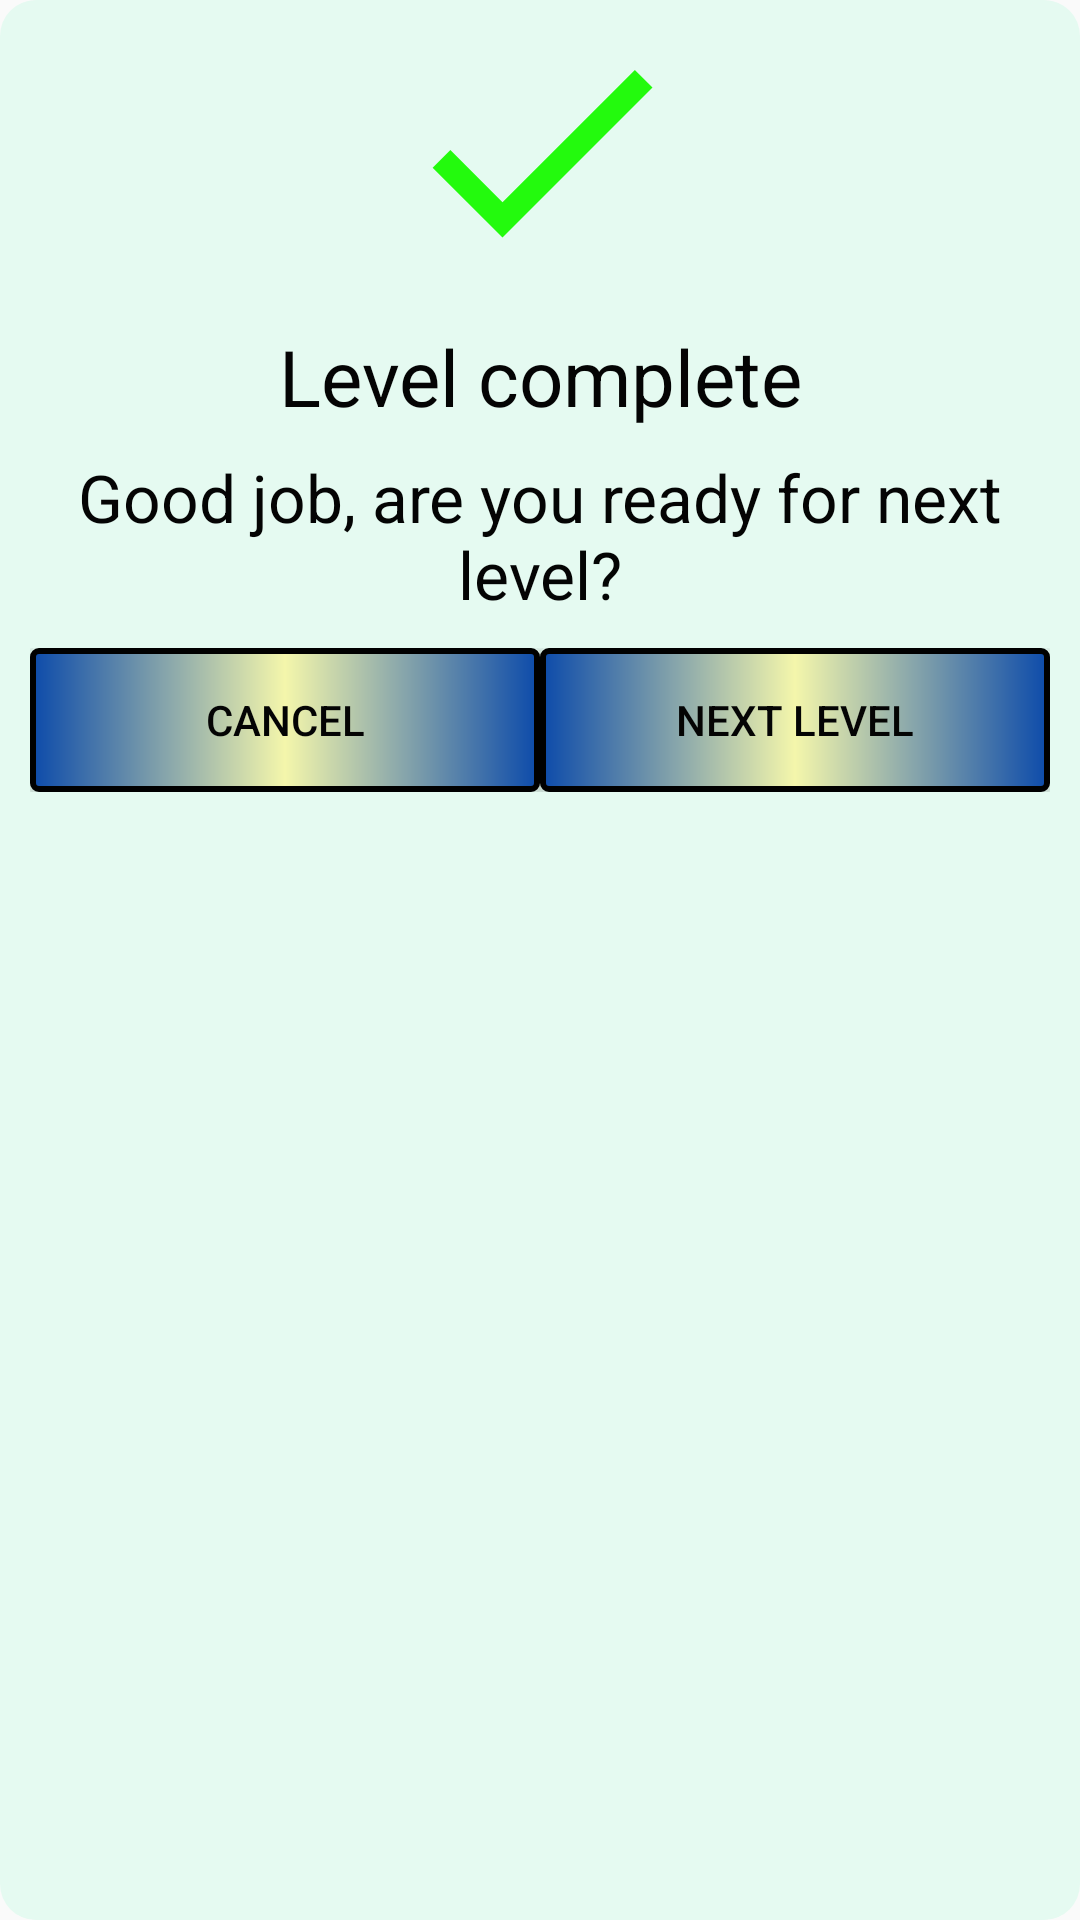

Point at icon controls on the screen. Image size 1080 x 1920, points as point (x, y).
success: point (542, 154)
